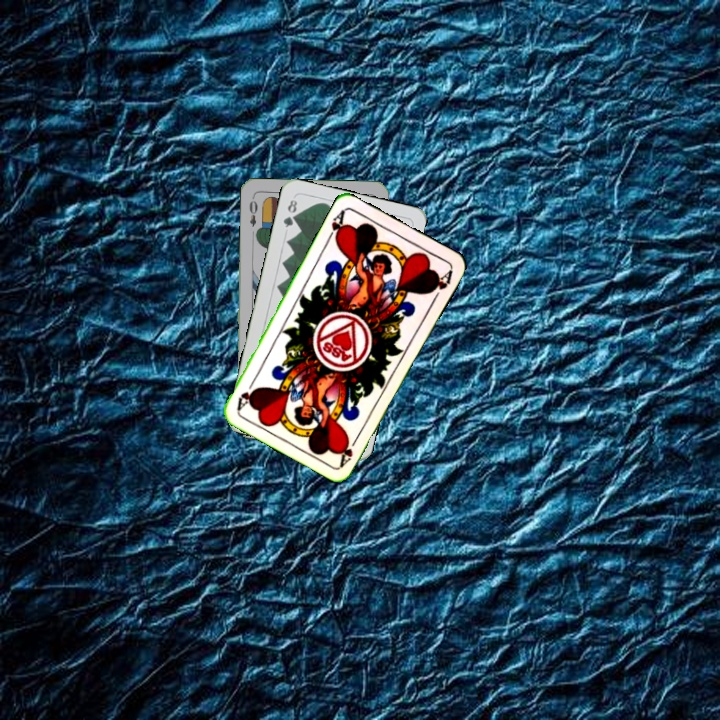EO: (245, 193, 260, 229)
G8: (279, 195, 300, 230)
HA: (322, 206, 348, 245), (336, 430, 362, 468)
